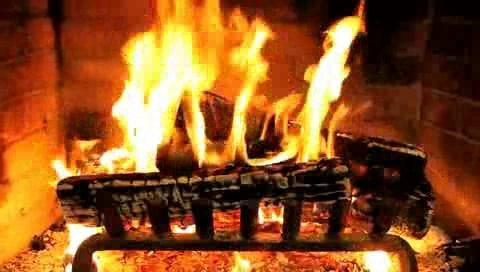fire: (134, 10, 328, 160)
